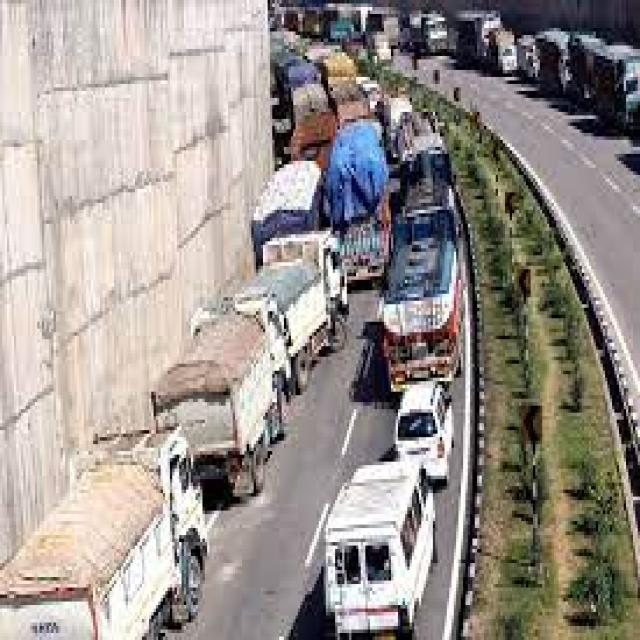high_traffic: (186, 66, 452, 640)
